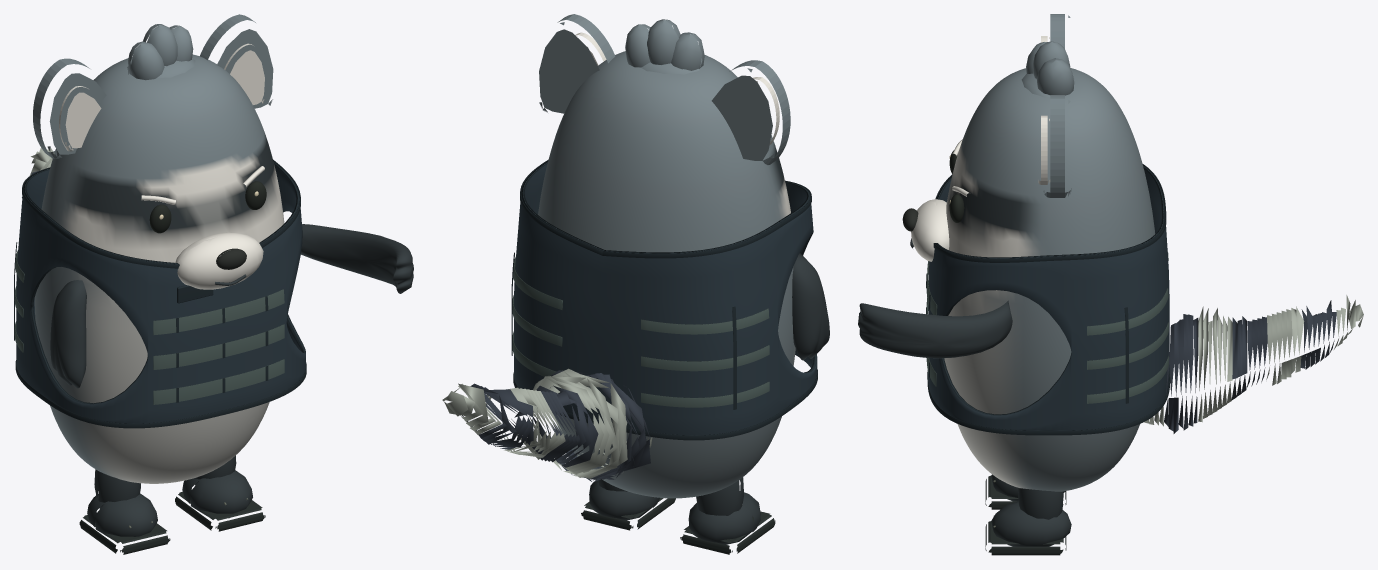
Rendered from species-grips-raccoon-aim_up-character.glb.
3 renders of one model, left to right at view 1: azimuth 30°, elevation 25°; view 2: azimuth 150°, elevation 25°; view 3: azimuth 270°, elevation 25°, orthographic. The views are drawn at different scales.
Visible parts, largest first — view 1: raccoon_torso_mesh, raccoon_vest_refined_mesh, raccoon_rightArm_mesh, raccoon_leftFoot_mesh, raccoon_leftEar_mesh, raccoon_snout_mesh, raccoon_rightFoot_mesh, raccoon_rightEar_mesh, raccoon_leftArm_mesh, raccoon_crestShort_mesh, raccoon_leftEye_mesh, raccoon_rightEye_mesh; view 2: raccoon_vest_refined_mesh, raccoon_torso_mesh, raccoon_tail_mesh, raccoon_leftEar_mesh, raccoon_leftFoot_mesh, raccoon_rightEar_mesh, raccoon_crestShort_mesh, raccoon_leftArm_mesh, raccoon_rightFoot_mesh; view 3: raccoon_torso_mesh, raccoon_vest_refined_mesh, raccoon_tail_mesh, raccoon_rightArm_mesh, raccoon_rightFoot_mesh, raccoon_crestShort_mesh, raccoon_rightEar_mesh, raccoon_snout_mesh, raccoon_leftFoot_mesh.
Part boxes in pixels (x1,y1,x2,y2): raccoon_torso_mesh: [34, 54, 284, 483]; raccoon_vest_refined_mesh: [14, 159, 306, 428]; raccoon_rightArm_mesh: [301, 224, 413, 293]; raccoon_leftFoot_mesh: [79, 469, 170, 554]; raccoon_leftEar_mesh: [33, 58, 106, 158]; raccoon_snout_mesh: [175, 232, 263, 289]; raccoon_rightFoot_mesh: [175, 455, 265, 531]; raccoon_rightEar_mesh: [200, 14, 273, 108]; raccoon_leftArm_mesh: [50, 280, 86, 388]; raccoon_crestShort_mesh: [127, 24, 195, 80]; raccoon_leftEye_mesh: [149, 204, 171, 233]; raccoon_rightEye_mesh: [245, 181, 266, 209]; raccoon_vest_refined_mesh: [511, 159, 817, 440]; raccoon_torso_mesh: [538, 51, 795, 498]; raccoon_tail_mesh: [442, 368, 652, 482]; raccoon_leftEar_mesh: [711, 60, 790, 164]; raccoon_leftFoot_mesh: [680, 477, 775, 554]; raccoon_rightEar_mesh: [539, 14, 615, 113]; raccoon_crestShort_mesh: [625, 19, 704, 74]; raccoon_leftArm_mesh: [792, 253, 829, 360]; raccoon_rightFoot_mesh: [581, 479, 675, 530]; raccoon_torso_mesh: [944, 68, 1155, 491]; raccoon_vest_refined_mesh: [926, 164, 1170, 435]; raccoon_tail_mesh: [1144, 295, 1363, 433]; raccoon_rightArm_mesh: [858, 300, 1012, 358]; raccoon_rightFoot_mesh: [985, 488, 1071, 555]; raccoon_crestShort_mesh: [1021, 41, 1075, 97]; raccoon_rightEar_mesh: [1038, 95, 1071, 197]; raccoon_snout_mesh: [902, 199, 949, 261]; raccoon_leftFoot_mesh: [985, 474, 1066, 509].
Size of the model in its own units: 1.25 by 1.98 by 1.88.
